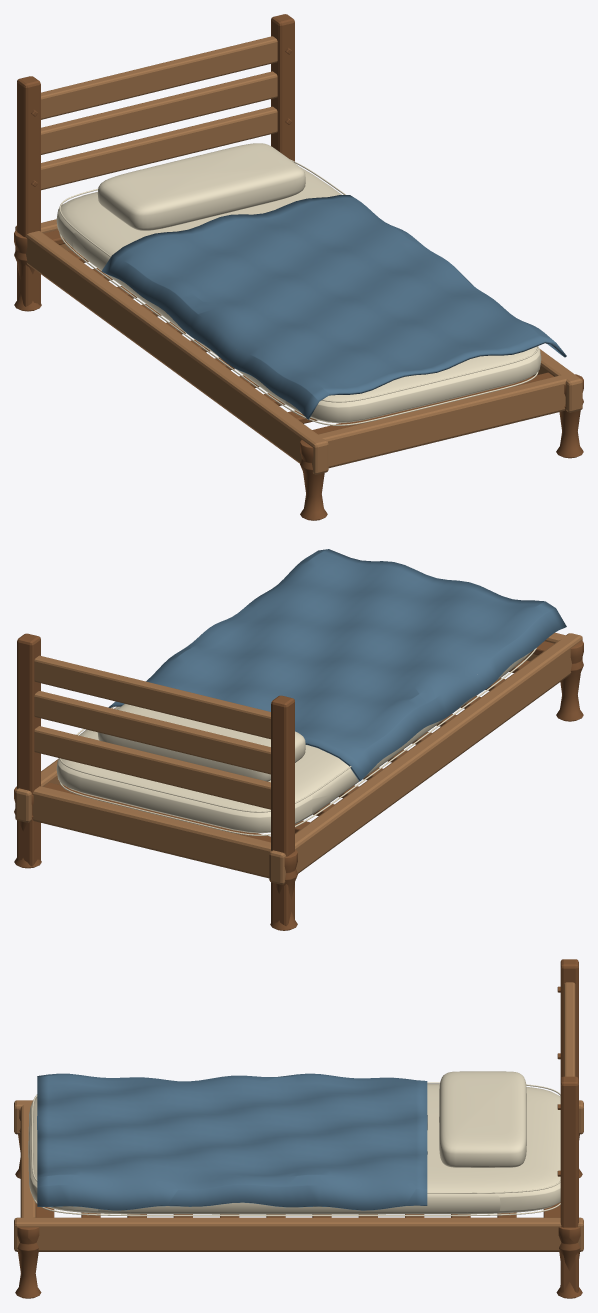
Rendered from bed_large.glb.
The picture shows the model from 3 angles, top to bottom: view 1: azimuth 30°, elevation 25°; view 2: azimuth 150°, elevation 25°; view 3: azimuth 270°, elevation 25°; orthographic projection. The views are drawn at different scales.
Parts seen in each view (by area): view 1: duvet_sculpted_folds.001, mattress.001, mortised_side_rail.002, pillow.001, end_rail.002, head_slat.003, head_slat.004, head_slat.005, head_post.002, head_post.003, turned_bed_foot.004, mattress_lower_piping.001 (+5 smaller); view 2: duvet_sculpted_folds.001, mortised_side_rail.002, mattress.001, end_rail.003, head_slat.005, head_slat.003, head_slat.004, head_post.002, head_post.003, pillow.001, turned_bed_foot.004, mattress_lower_piping.001 (+4 smaller); view 3: duvet_sculpted_folds.001, mortised_side_rail.003, mattress.001, pillow.001, head_post.003, turned_bed_foot.006, end_rail.002, head_post.002, head_slat.005, mattress_lower_piping.001, turned_bed_foot.007, mattress_upper_piping.001.
Part boxes in pixels (x1=…): duvet_sculpted_folds.001: x1=101, y1=195, x2=566, y2=419; mattress.001: x1=56, y1=167, x2=541, y2=423; mortised_side_rail.002: x1=15, y1=225, x2=328, y2=474; pillow.001: x1=97, y1=143, x2=305, y2=230; end_rail.002: x1=305, y1=373, x2=576, y2=468; head_slat.003: x1=41, y1=106, x2=277, y2=190; head_slat.004: x1=41, y1=71, x2=277, y2=154; head_slat.005: x1=41, y1=36, x2=277, y2=119; head_post.002: x1=17, y1=76, x2=40, y2=306; head_post.003: x1=271, y1=14, x2=294, y2=161; turned_bed_foot.004: x1=300, y1=439, x2=327, y2=520; mattress_lower_piping.001: x1=59, y1=233, x2=538, y2=425; duvet_sculpted_folds.001: x1=108, y1=549, x2=566, y2=781; mortised_side_rail.002: x1=269, y1=633, x2=582, y2=884; mattress.001: x1=56, y1=651, x2=531, y2=833; end_rail.003: x1=32, y1=786, x2=270, y2=878; head_slat.005: x1=34, y1=655, x2=270, y2=739; head_slat.003: x1=34, y1=726, x2=270, y2=809; head_slat.004: x1=34, y1=691, x2=270, y2=774; head_post.002: x1=271, y1=695, x2=294, y2=926; head_post.003: x1=17, y1=633, x2=40, y2=866; pillow.001: x1=97, y1=704, x2=305, y2=781; turned_bed_foot.004: x1=556, y1=640, x2=583, y2=721; mattress_lower_piping.001: x1=59, y1=648, x2=536, y2=835; duvet_sculpted_folds.001: x1=37, y1=1073, x2=427, y2=1210; mortised_side_rail.003: x1=14, y1=1217, x2=583, y2=1251; mattress.001: x1=28, y1=1084, x2=560, y2=1214; pillow.001: x1=439, y1=1071, x2=526, y2=1167; head_post.003: x1=560, y1=1076, x2=578, y2=1292; turned_bed_foot.006: x1=15, y1=1227, x2=41, y2=1298; end_rail.002: x1=20, y1=1100, x2=35, y2=1227; head_post.002: x1=560, y1=959, x2=578, y2=1078; head_slat.005: x1=564, y1=982, x2=575, y2=1076; mattress_lower_piping.001: x1=33, y1=1198, x2=560, y2=1216; turned_bed_foot.007: x1=556, y1=1227, x2=582, y2=1298; mattress_upper_piping.001: x1=31, y1=1082, x2=560, y2=1193.
Size of the model in its own units: 1.5 by 1.16 by 2.79.
